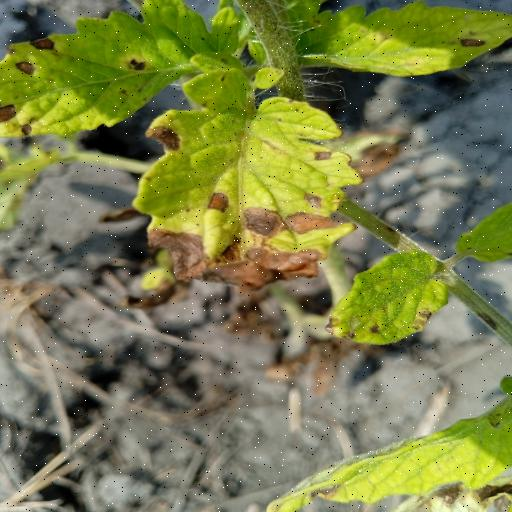Tomato_Brown_Spots: (129, 96, 363, 306)
